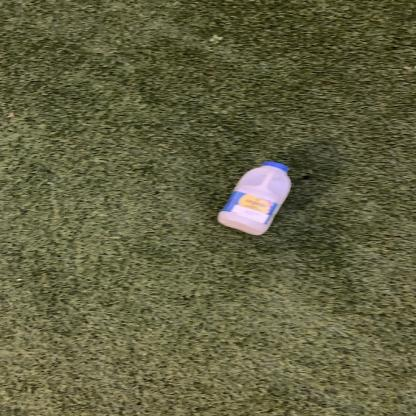trash: (213, 160, 296, 240)
